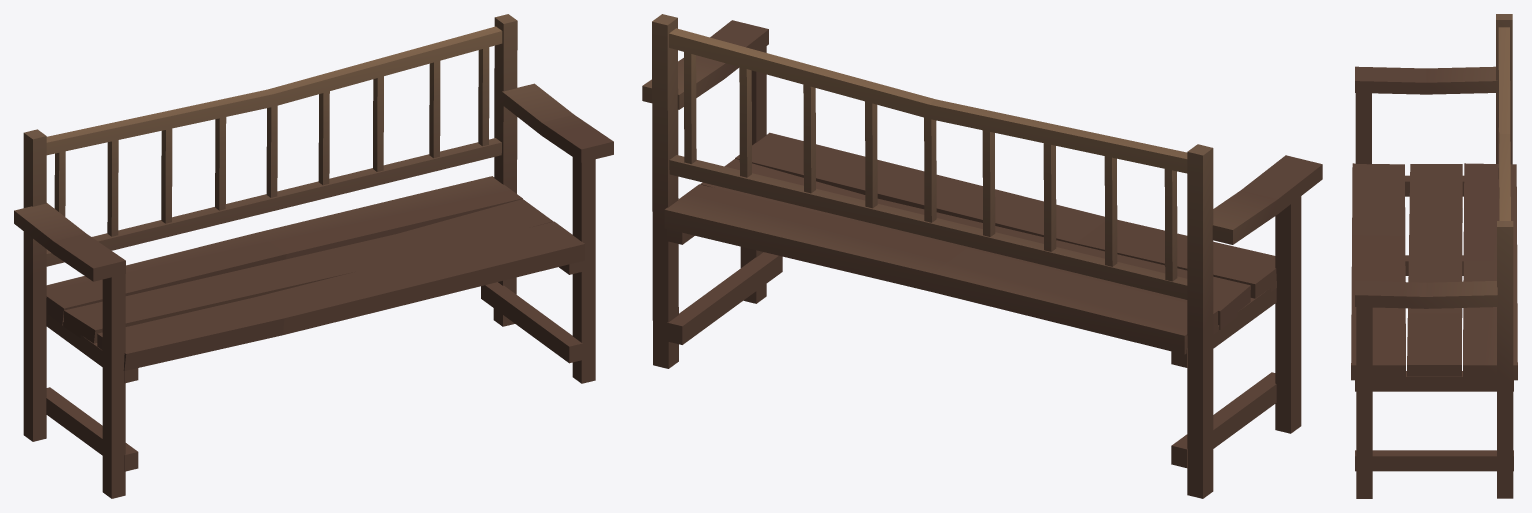
File: Bench 1.glb
The picture shows the model from 3 angles, left to right: view 1: azimuth 30°, elevation 25°; view 2: azimuth 150°, elevation 25°; view 3: azimuth 270°, elevation 25°; orthographic projection. The views are drawn at different scales.
Parts seen in each view (by area): view 1: Bench 1; view 2: Bench 1; view 3: Bench 1.
Part boxes in pixels (box(x1,y1,x2,y2)): Bench 1: box(14, 14, 613, 498); Bench 1: box(642, 14, 1322, 498); Bench 1: box(1351, 14, 1517, 498).
Size of what is drawn, in the model's own units: 1.95 by 1.08 by 0.6001.
1 material, 1 textured.
